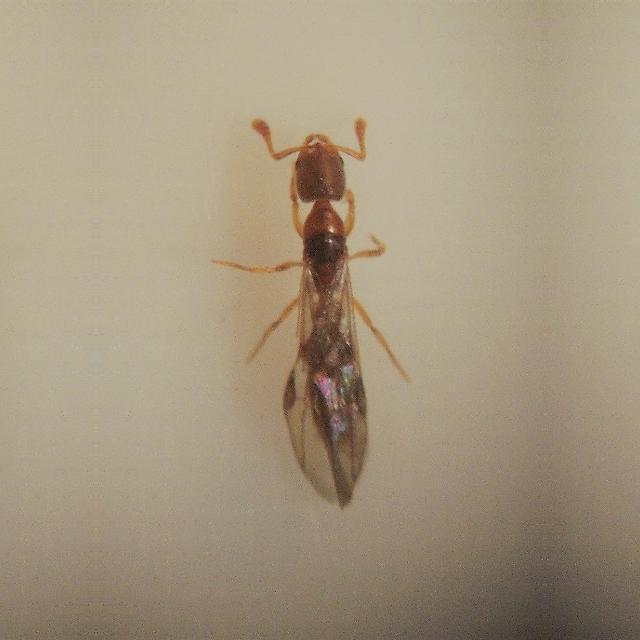Ponera: (232, 82, 434, 514)
